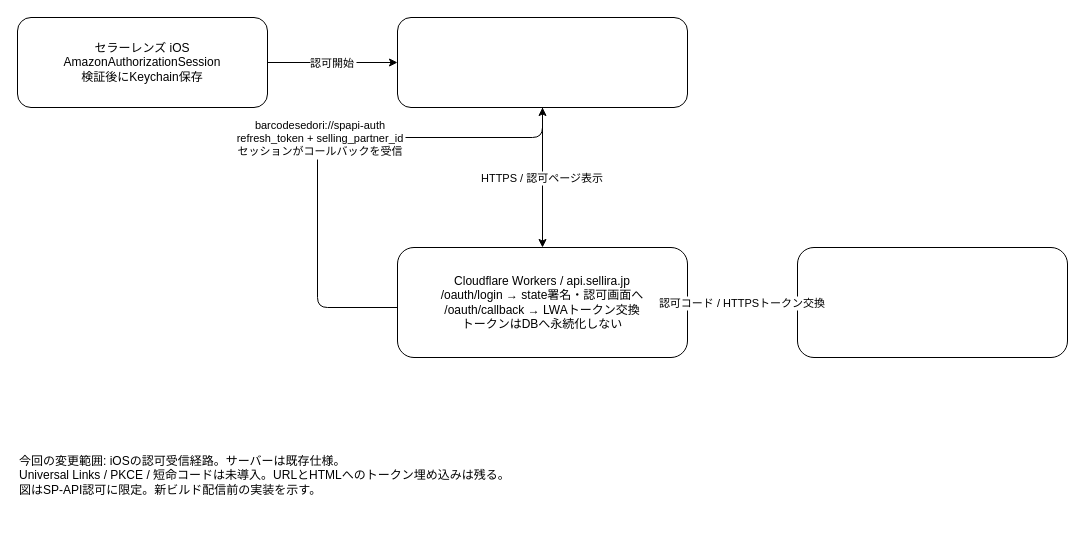
Some shapes in this 1085 by 555 pixel diagram are drawn without their labels. The centre of each missing label's shape, as x and y in pixels:
"Amazon Seller Central / LWA 販売パートナーがアクセスを許可" goes at [932,302].
"Apple ASWebAuthenticationSession 開始元アプリの完了ハンドラへ返す 通常のonOpenURLでは保存しない" goes at [542,62].
